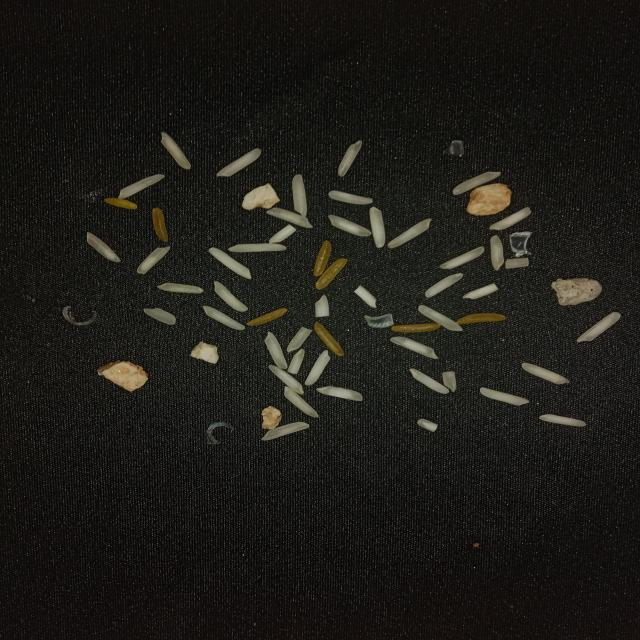Broken: (316, 258, 348, 290), (314, 322, 344, 356), (246, 308, 288, 326), (286, 327, 312, 352), (314, 240, 332, 276), (456, 312, 506, 324), (462, 284, 498, 300), (353, 285, 378, 308), (152, 208, 168, 242), (270, 224, 296, 244), (391, 323, 441, 333), (287, 348, 305, 374), (104, 198, 138, 210), (314, 294, 330, 318), (442, 371, 457, 392), (416, 419, 438, 432), (505, 258, 529, 268)
Full: (576, 312, 622, 344), (208, 248, 252, 280), (388, 218, 432, 248), (216, 149, 262, 177), (118, 173, 164, 200), (160, 132, 192, 170), (453, 171, 501, 195), (418, 305, 462, 331), (389, 336, 439, 358), (284, 386, 318, 418), (213, 281, 248, 312), (268, 365, 304, 395), (440, 246, 484, 270), (522, 362, 570, 384), (87, 232, 121, 262), (328, 214, 372, 237), (203, 306, 245, 330), (480, 386, 530, 406), (409, 368, 449, 393), (489, 207, 532, 230), (136, 246, 170, 274), (304, 350, 330, 386), (261, 422, 310, 441), (266, 208, 312, 228), (426, 274, 464, 298), (338, 140, 362, 177), (264, 332, 288, 369), (316, 386, 362, 401), (292, 174, 307, 219), (539, 413, 587, 427), (369, 206, 385, 248), (328, 190, 372, 205), (228, 243, 287, 253), (156, 282, 204, 294), (144, 308, 176, 324), (490, 235, 504, 271)
